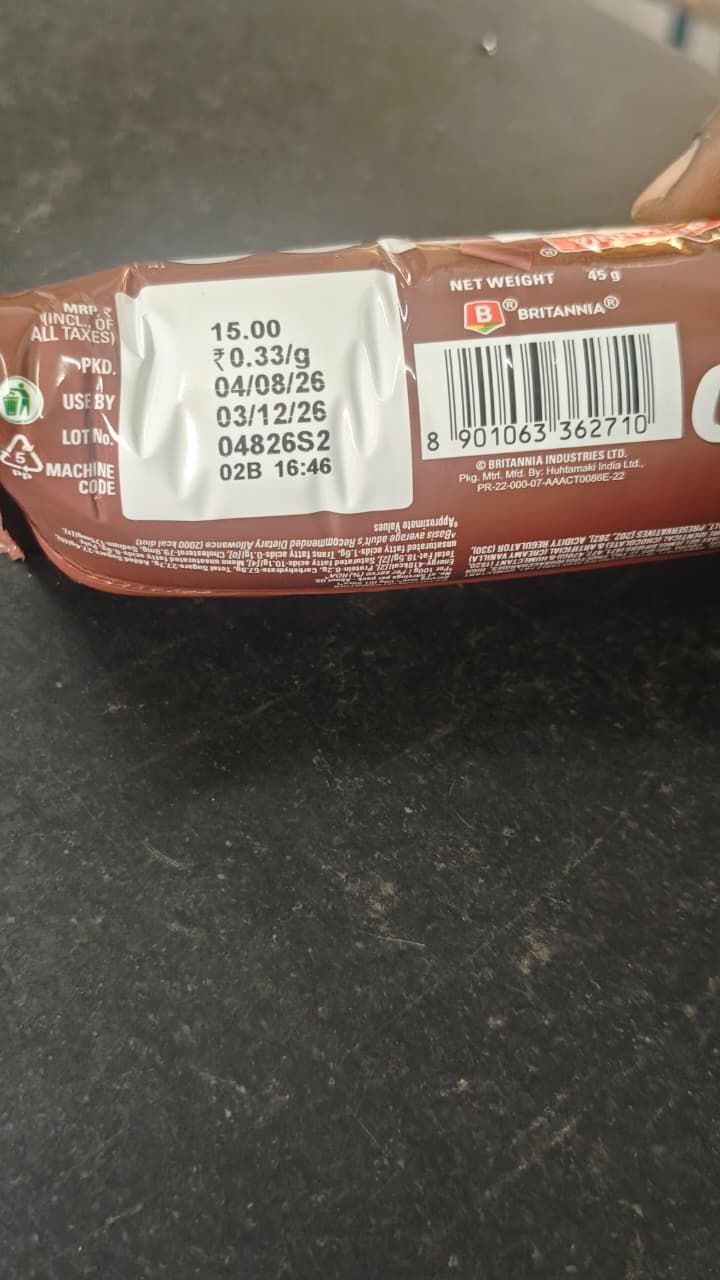Brand: (446, 300, 669, 339)
EXP_Date: (58, 397, 338, 430)
MFG_Date: (56, 355, 335, 397)
MRP: (174, 306, 300, 346)
